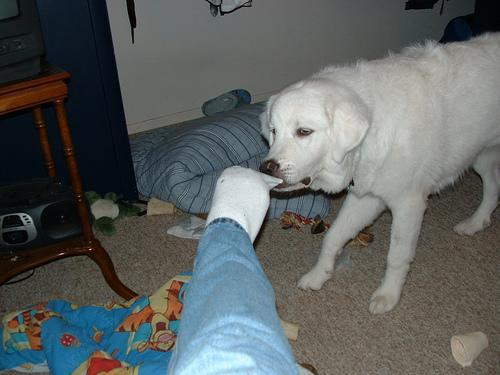Great_Pyrenees: (260, 30, 499, 314)
